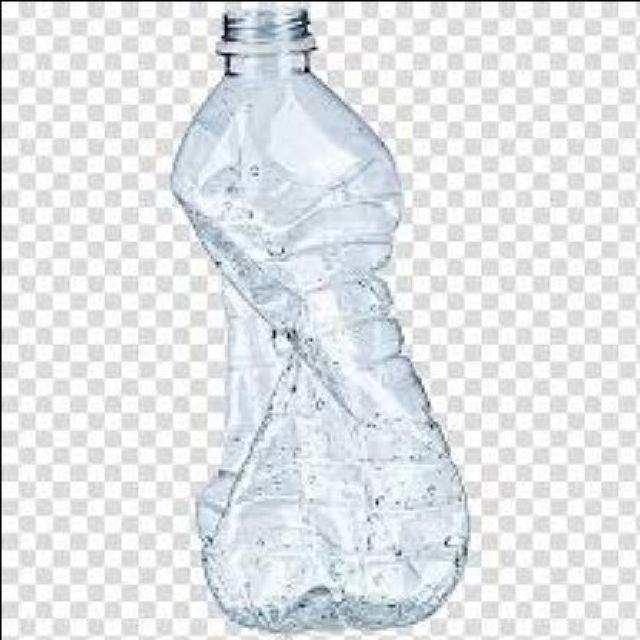PLASTIC: (166, 6, 463, 628)
